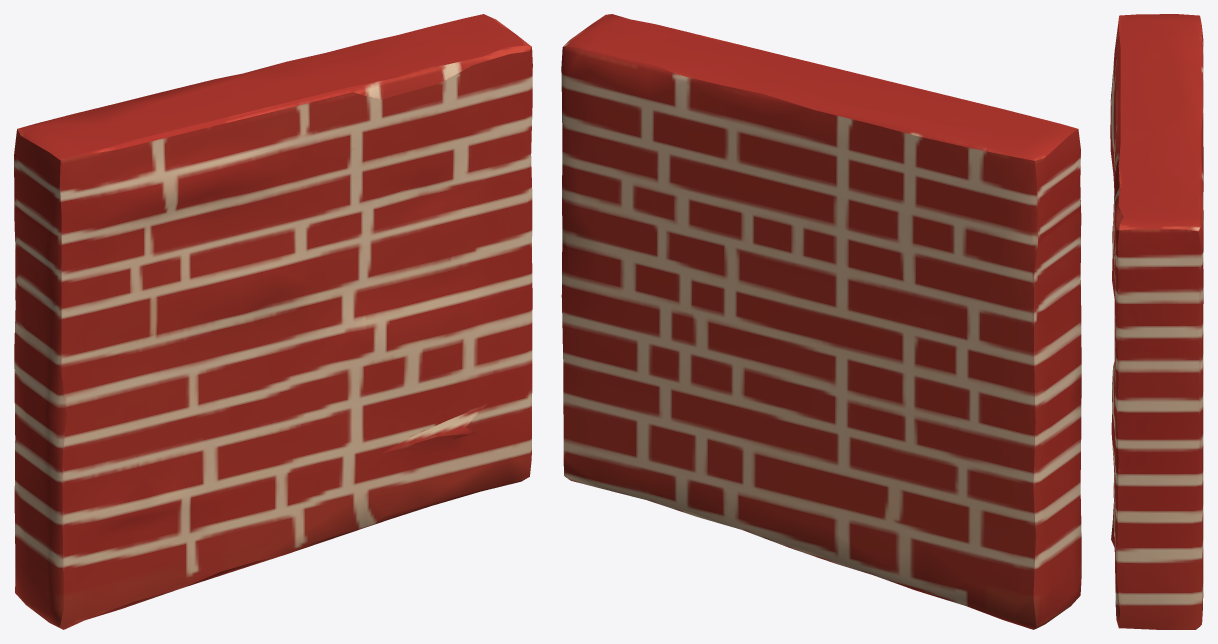
The model's file is red-brick-wall.glb.
3 renders of one model, left to right at view 1: azimuth 30°, elevation 25°; view 2: azimuth 150°, elevation 25°; view 3: azimuth 270°, elevation 25°, orthographic. The views are drawn at different scales.
Visible parts, largest first — view 1: geometry_0; view 2: geometry_0; view 3: geometry_0.
Boxes of the visible parts, bbox=[...] form: geometry_0: bbox=[14, 14, 532, 629]; geometry_0: bbox=[561, 14, 1081, 629]; geometry_0: bbox=[1110, 14, 1203, 629].
Size of the model in its own units: 1 by 0.9476 by 0.1822.
Materials: 1 (1 with a texture image).
